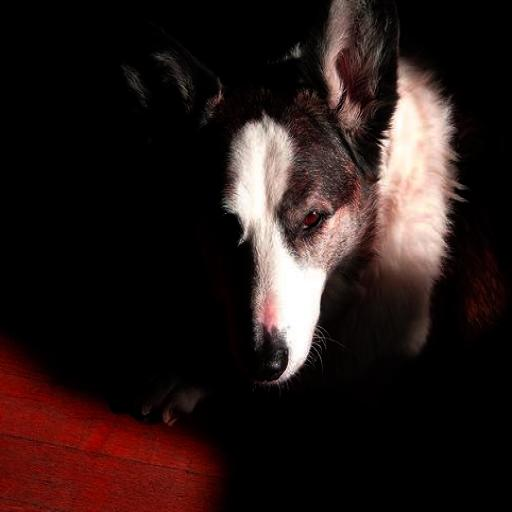dog_face: (116, 0, 399, 393)
